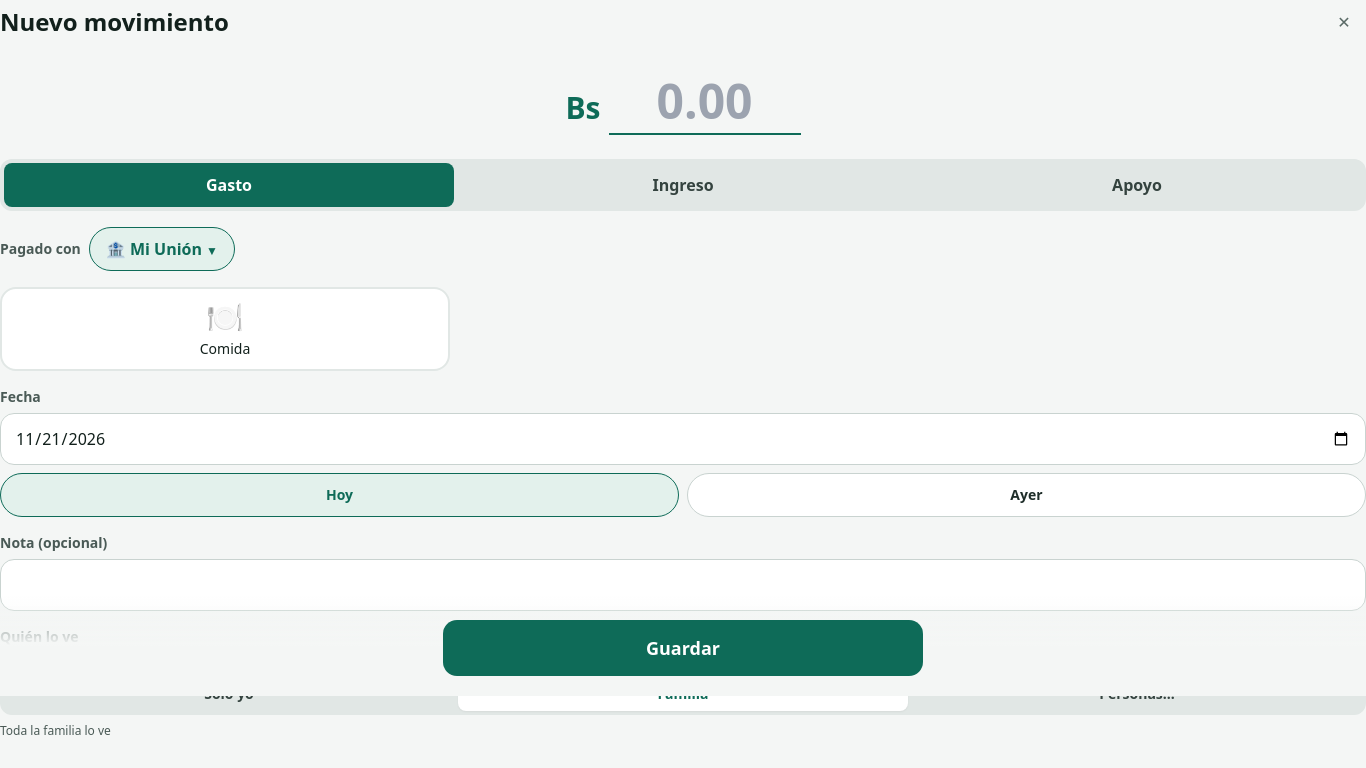
Nuevo movimiento con fuente › el chip abre la hoja y permite cambiar a Efectivo
Step 1. Click the button with test id "chip-fuente" → coordinates (162, 249), box [89,227,235,271]
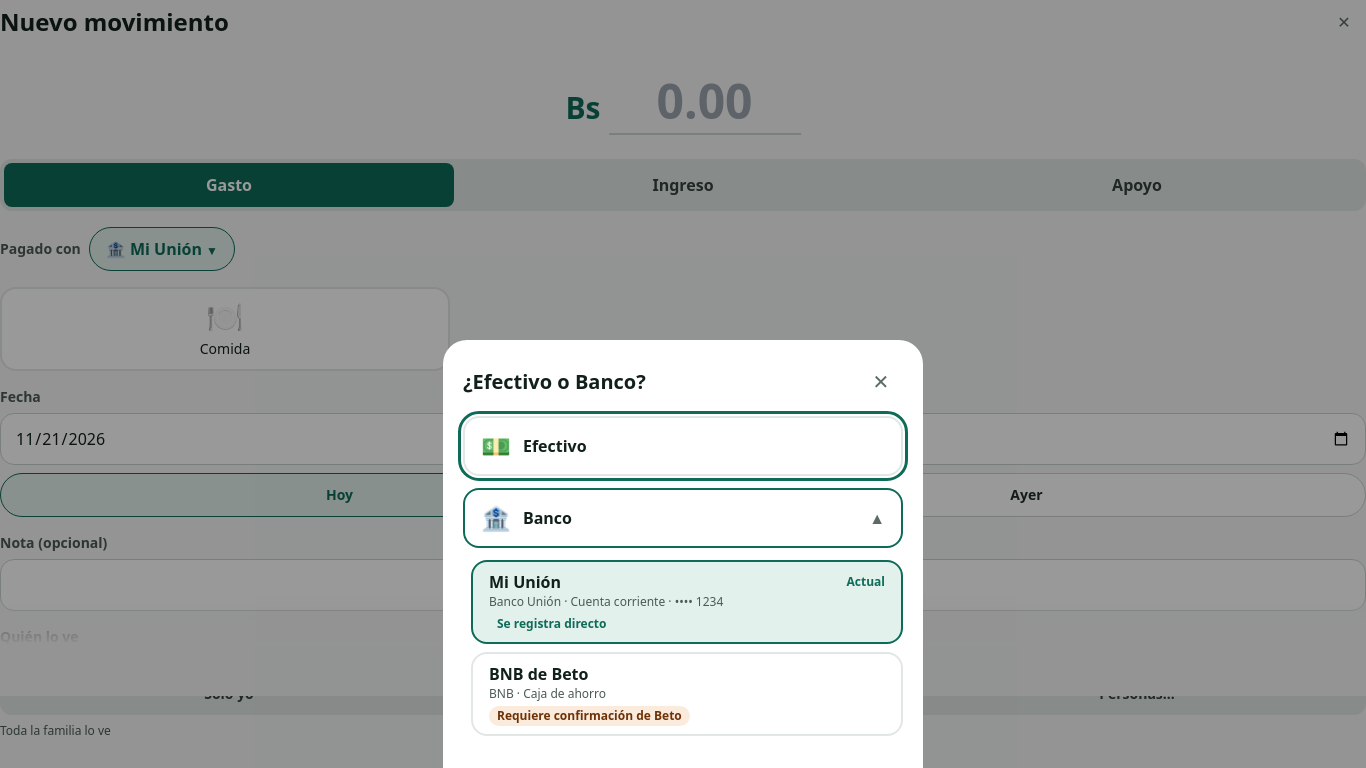
Step 2. Click the button "💵 Efectivo" → coordinates (555, 446), box [463,416,903,476]
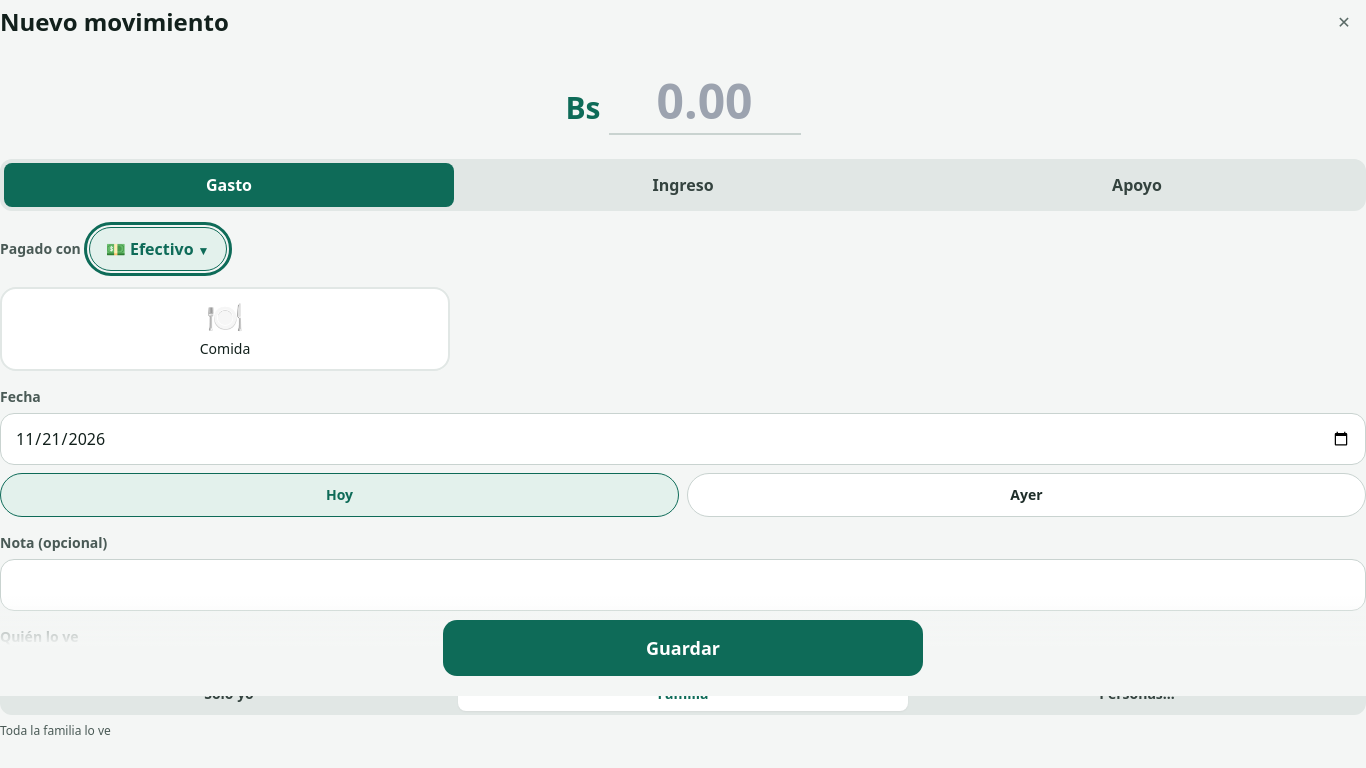
Expected: the button with test id "chip-fuente" shows "Efectivo", [89,227,226,271]
